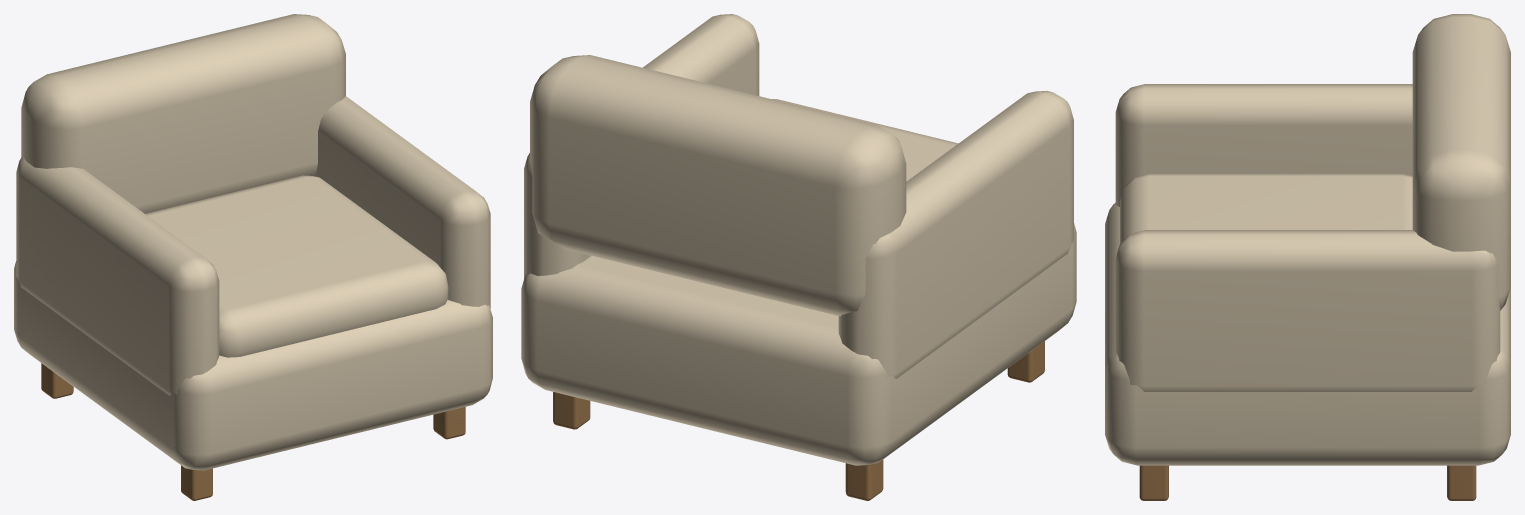
The model's file is prod-1773061941304-2aleu.glb.
3 renders of one model, left to right at view 1: azimuth 30°, elevation 25°; view 2: azimuth 150°, elevation 25°; view 3: azimuth 270°, elevation 25°, orthographic. The views are drawn at different scales.
Visible parts, largest first — view 1: Sofa base.001, Sofa foot.004; view 2: Sofa base.001, Sofa foot.004; view 3: Sofa base.001, Sofa foot.004.
Part boxes in pixels (x1,y1,x2,y2): Sofa base.001: (14,14,492,470); Sofa foot.004: (41,363,465,500); Sofa base.001: (521,14,1076,465); Sofa foot.004: (553,341,1044,500); Sofa base.001: (1105,14,1510,465); Sofa foot.004: (1139,465,1476,500).
Bounding box in the file's own units: 0.8 × 0.75 × 0.8.
